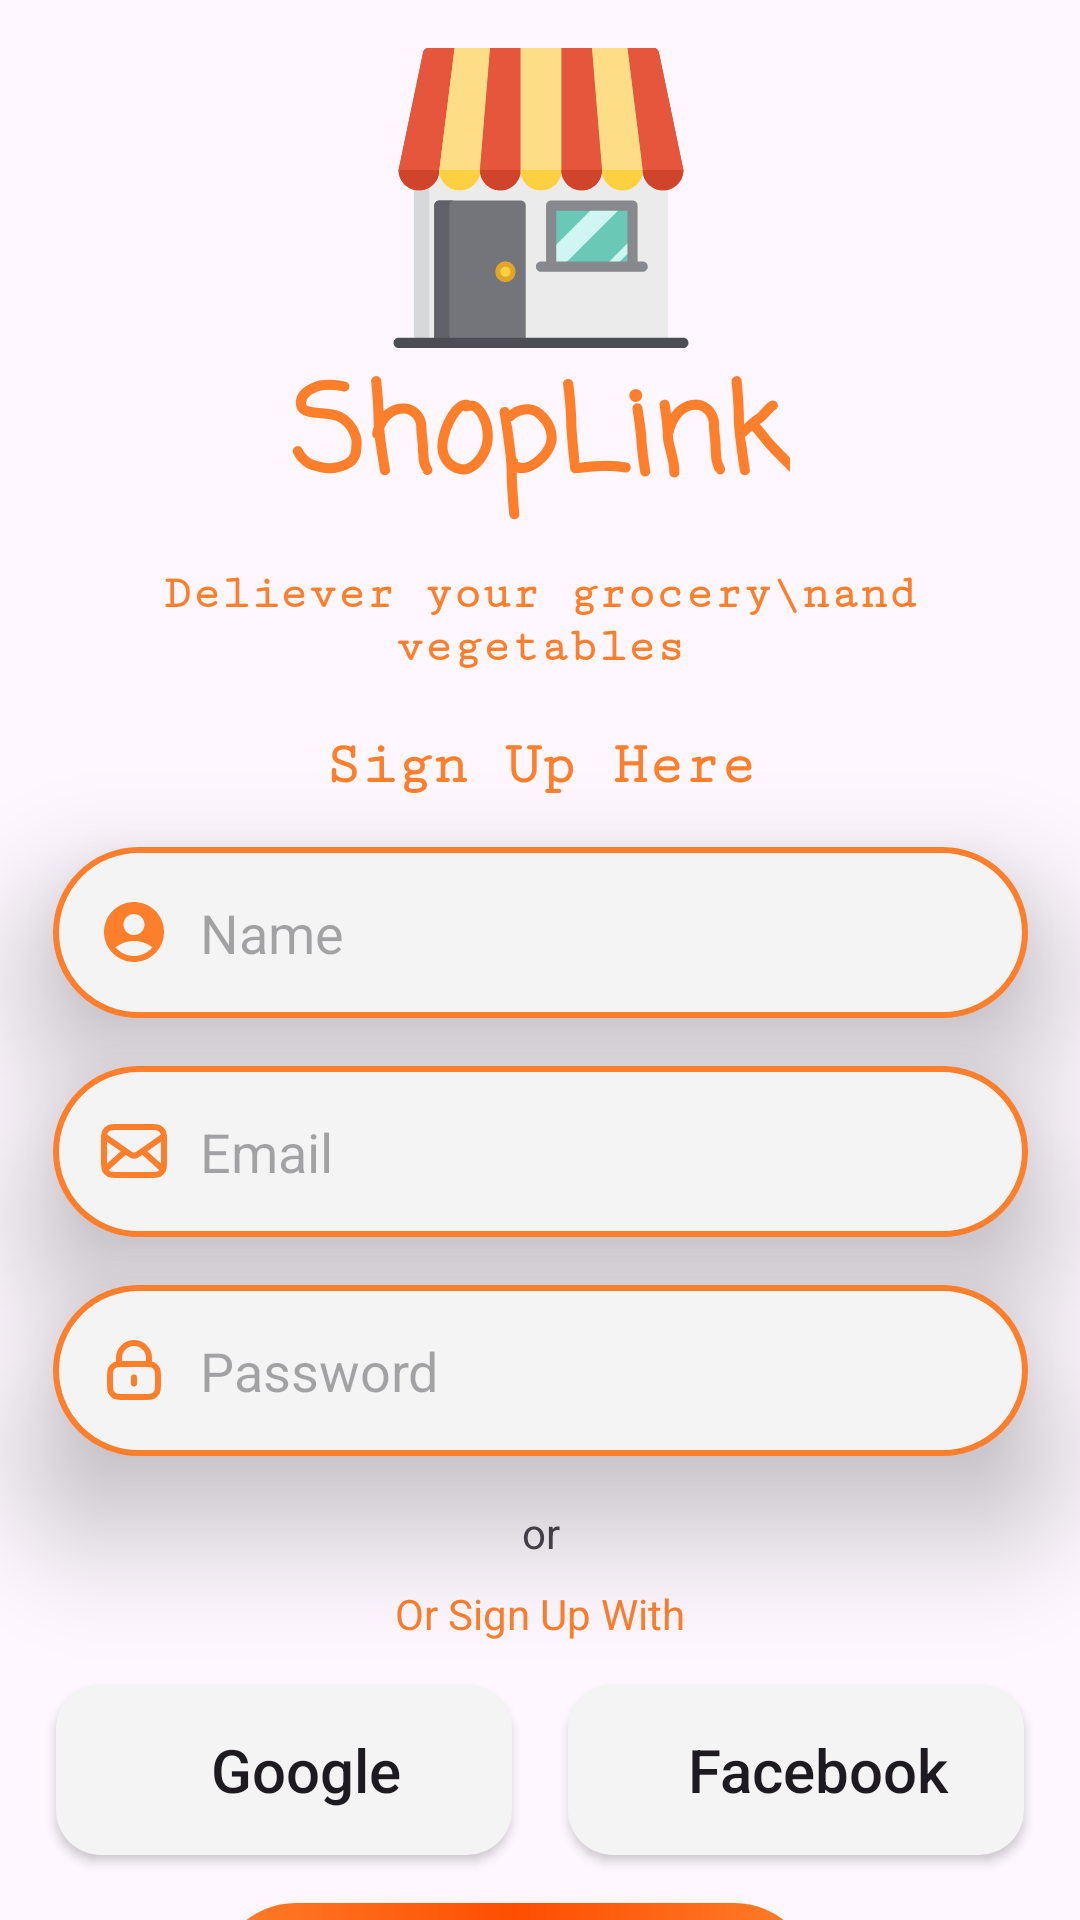

Where to tap for icons on this 1080w x 1920h app screen, as point (x, y):
store: point (541, 198)
